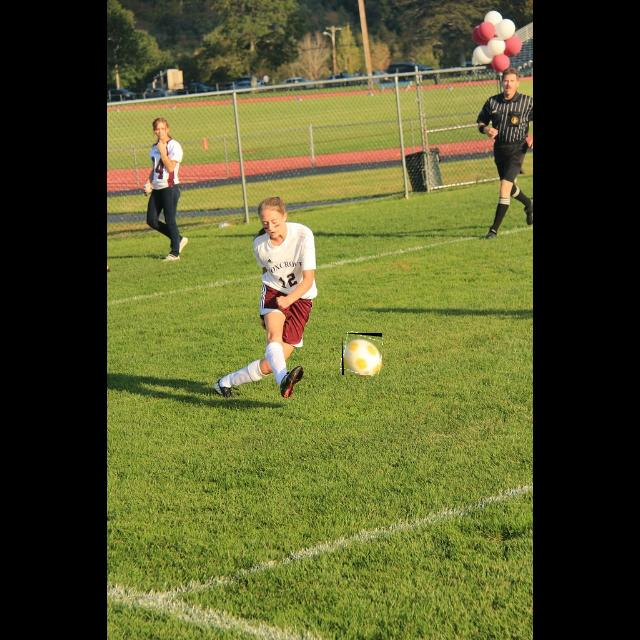Football: (342, 333, 382, 375)
